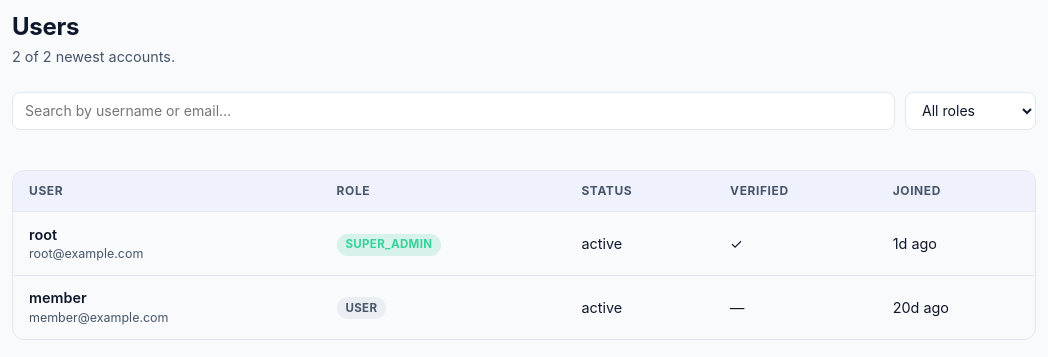
Scenario: AdminUsersPage › shows an empty state when nothing matches
Type "zzz" into the search field named "Search users" at (454, 111), box [12, 92, 895, 130]
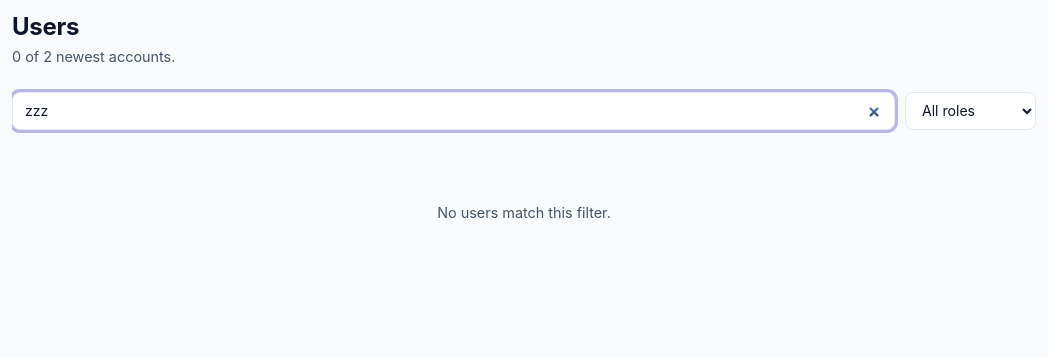
Expected: the text "No users match this filter." is shown, [437, 204, 611, 221]
